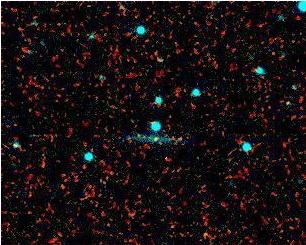star: (191, 224, 221, 245)
